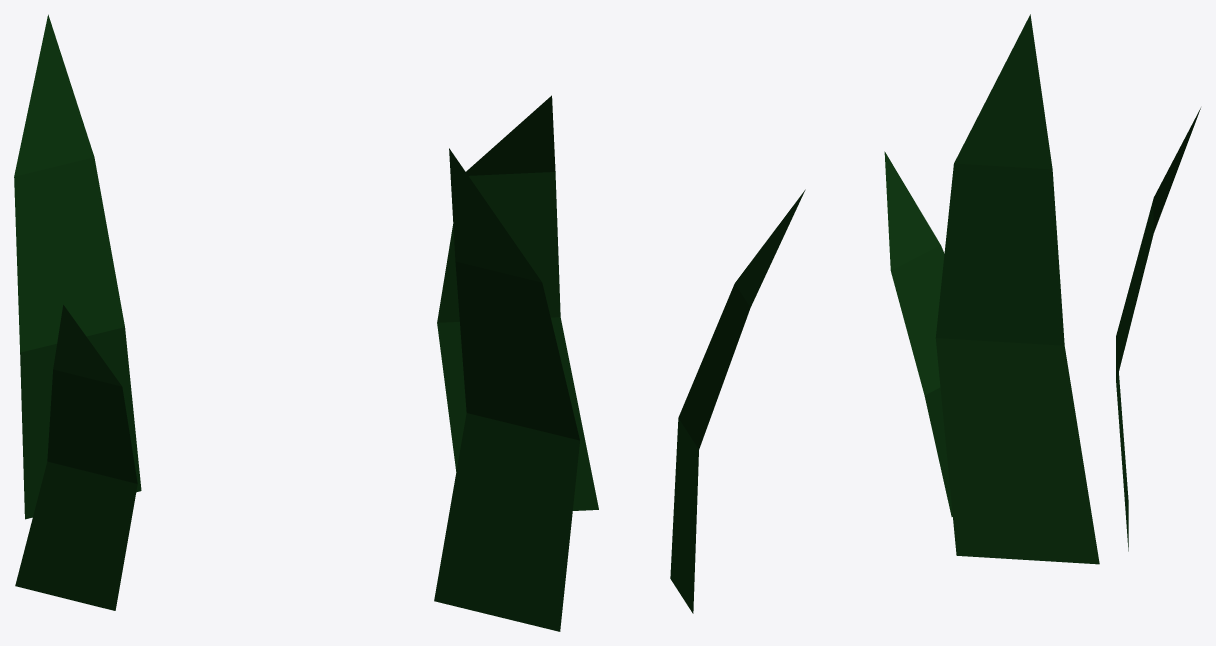
File: grass.obj
3 views of the same model, side by side, from view 1: azimuth 30°, elevation 25°; view 2: azimuth 150°, elevation 25°; view 3: azimuth 270°, elevation 25° (orthographic). The views are drawn at different scales.
Visible parts, largest first — view 1: grass; view 2: grass; view 3: grass.
Boxes of the visible parts, box(x1,y1,x2,y2) form: grass: box(14, 14, 141, 610); grass: box(434, 95, 805, 631); grass: box(884, 14, 1200, 564).
Bounding box in the file's own units: 0.1459 × 0.2318 × 0.1478.
